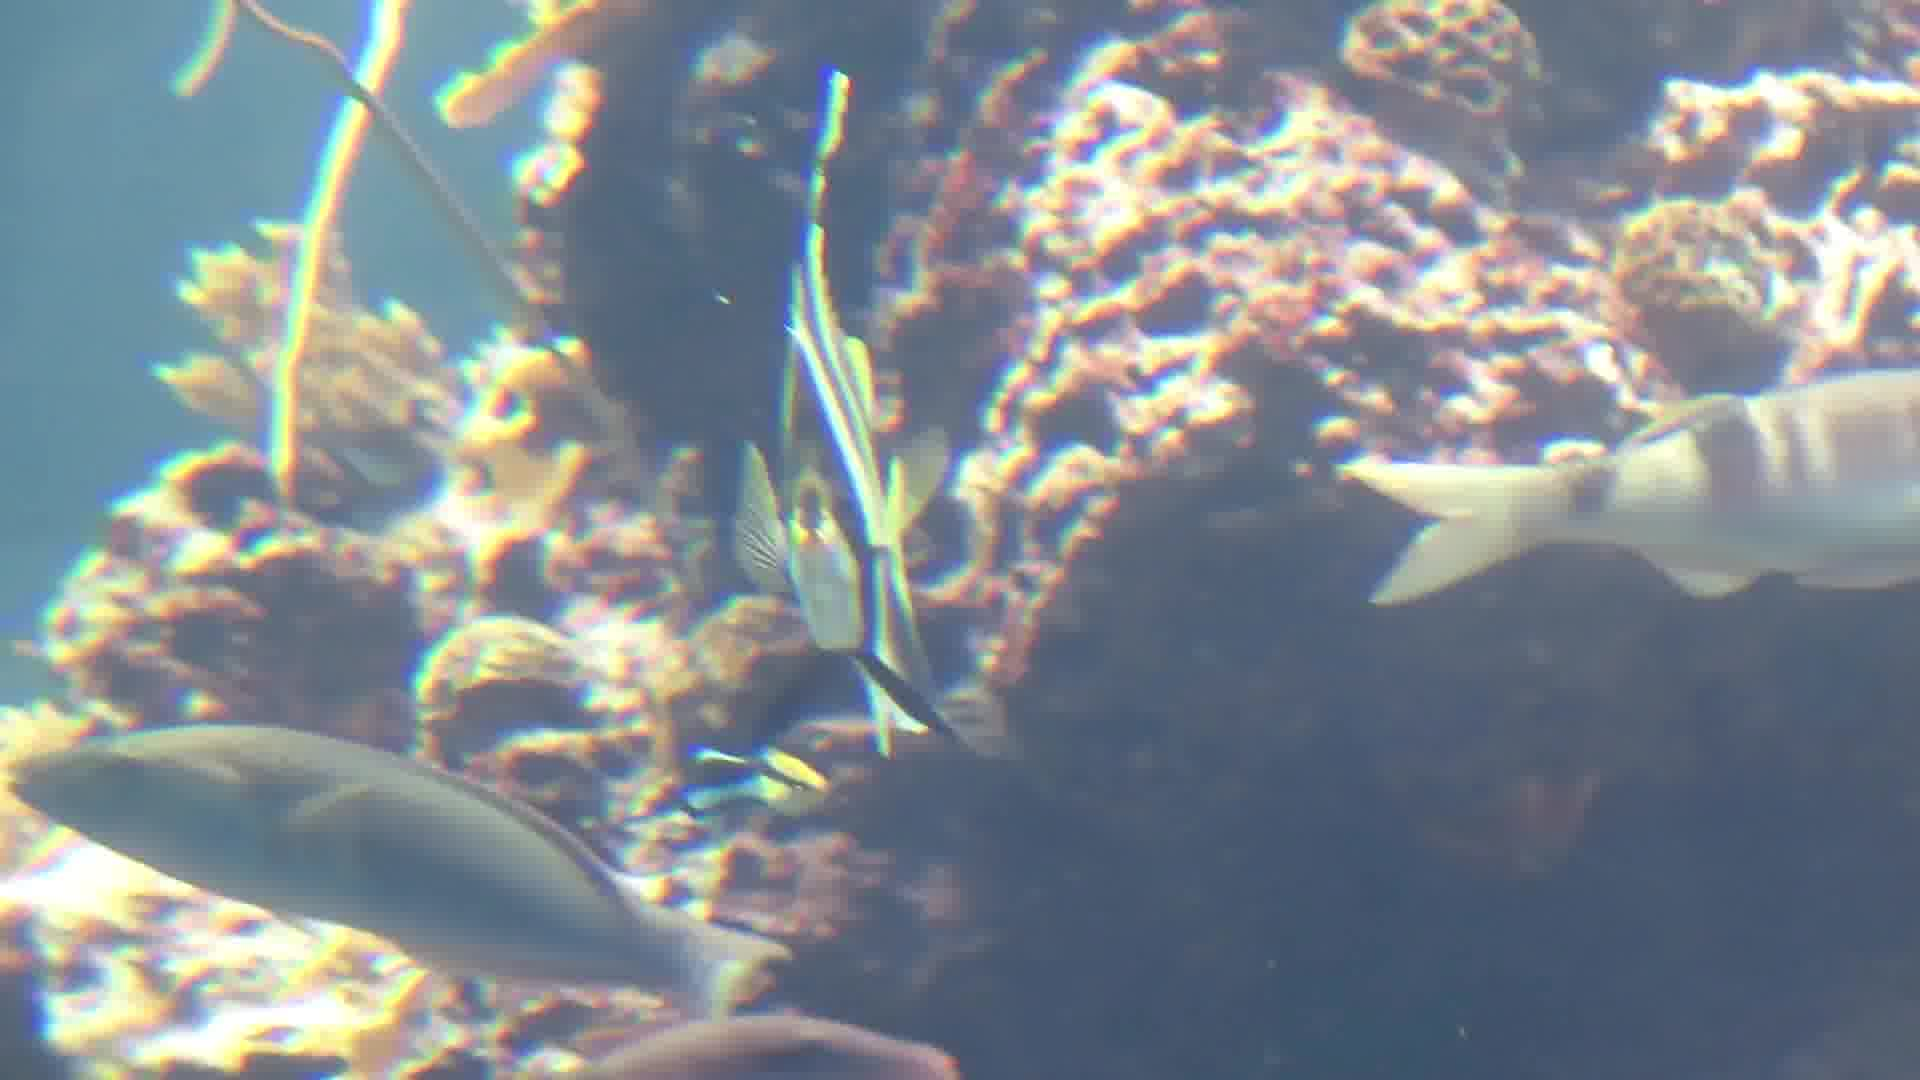Heniochus chrysostomus: (647, 105, 1060, 744)
